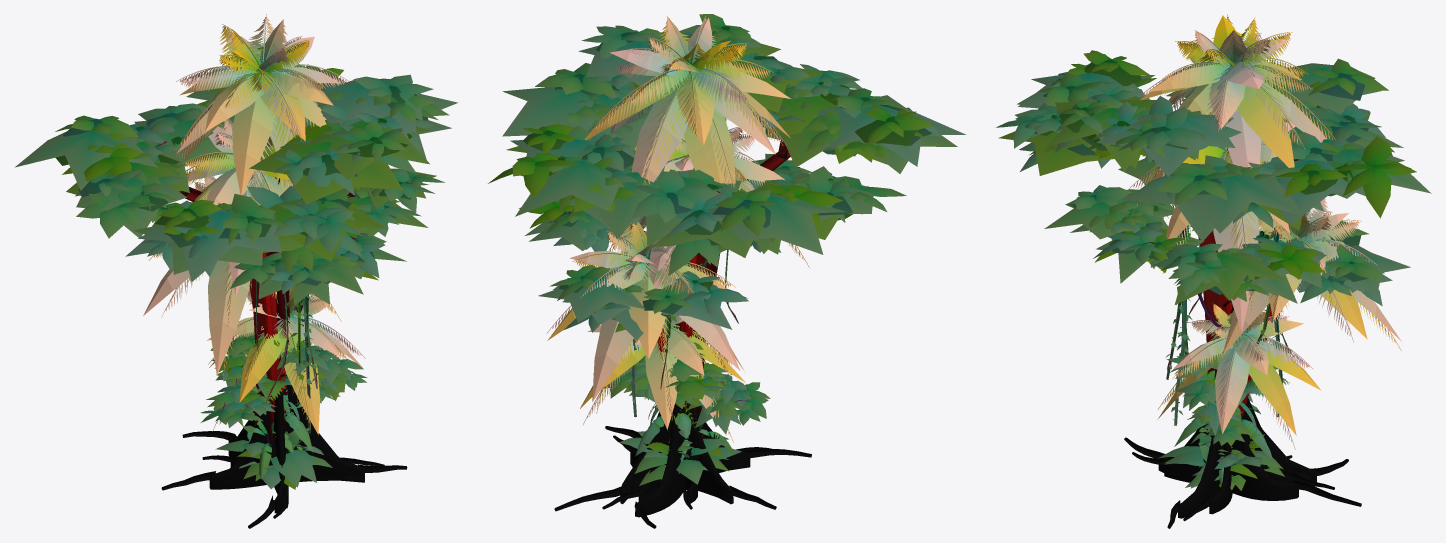
Rendered from flora.glb.
3 renders of one model, left to right at view 1: azimuth 30°, elevation 25°; view 2: azimuth 150°, elevation 25°; view 3: azimuth 270°, elevation 25°, orthographic. The views are drawn at different scales.
Parts seen in each view (by area): view 1: CanopyA_hi, CanopyA_lo, PalmTall_lo, PalmTall_hi, CanopyB_hi, PalmYoung_lo, CanopyB_lo, PalmLean_lo, PalmYoung_hi, Understory_hi, Understory_lo, PalmMid_hi (+6 smaller); view 2: CanopyA_hi, CanopyA_lo, PalmTall_lo, PalmTall_hi, CanopyB_hi, PalmLean_lo, CanopyB_lo, PalmLean_hi, PalmYoung_lo, Understory_hi, Bush1_hi, Understory_lo (+6 smaller); view 3: CanopyA_hi, CanopyA_lo, CanopyB_hi, PalmTall_lo, CanopyB_lo, PalmTall_hi, PalmYoung_lo, PalmYoung_hi, PalmLean_lo, PalmLean_hi, PalmMid_lo, Bush1_hi (+6 smaller).
Part boxes in pixels (box(x1,y1,x2,y2)): CanopyA_hi: box(55, 46, 449, 528); CanopyA_lo: box(15, 80, 457, 513); PalmTall_lo: box(176, 20, 339, 379); PalmTall_hi: box(176, 14, 350, 380); CanopyB_hi: box(143, 169, 444, 518); PalmYoung_lo: box(207, 287, 363, 434); CanopyB_lo: box(125, 168, 436, 492); PalmLean_lo: box(143, 177, 332, 375); PalmYoung_hi: box(208, 289, 365, 431); Understory_hi: box(200, 335, 367, 424); Understory_lo: box(206, 334, 360, 427); PalmMid_hi: box(165, 118, 306, 426); CanopyA_hi: box(488, 14, 942, 528); CanopyA_lo: box(502, 31, 966, 516); PalmTall_lo: box(585, 17, 790, 331); PalmTall_hi: box(590, 16, 786, 332); CanopyB_hi: box(519, 153, 811, 509); PalmLean_lo: box(547, 221, 744, 415); CanopyB_lo: box(521, 159, 801, 502); PalmLean_hi: box(546, 223, 735, 422); PalmYoung_lo: box(580, 316, 745, 435); Understory_hi: box(593, 334, 770, 426); Bush1_hi: box(619, 431, 741, 485); Understory_lo: box(604, 356, 751, 433); CanopyA_hi: box(996, 50, 1416, 528); CanopyA_lo: box(998, 63, 1431, 518); CanopyB_hi: box(1065, 155, 1392, 521); PalmTall_lo: box(1140, 15, 1326, 314); CanopyB_lo: box(1044, 156, 1410, 513); PalmTall_hi: box(1131, 14, 1335, 315); PalmYoung_lo: box(1157, 304, 1321, 435); PalmYoung_hi: box(1158, 304, 1313, 449); PalmLean_lo: box(1222, 212, 1401, 418); PalmLean_hi: box(1217, 198, 1401, 418); PalmMid_lo: box(1151, 122, 1320, 332); Bush1_hi: box(1158, 434, 1284, 488).
Size of the model in its own units: 18.94 by 21.78 by 18.63.
